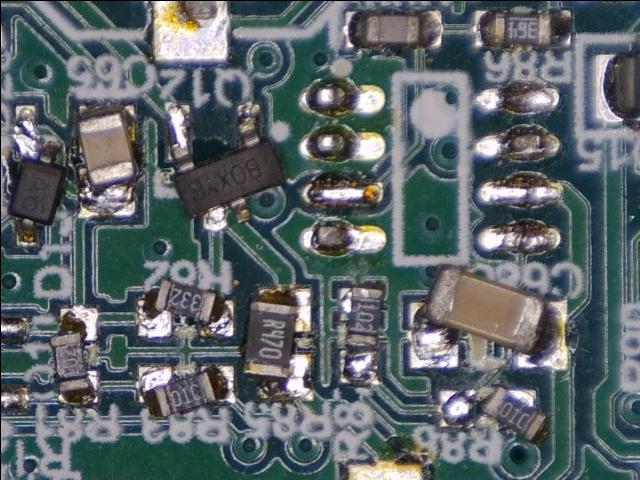Incorrect_installation: (408, 262, 571, 371), (163, 100, 287, 231), (7, 102, 67, 247), (242, 286, 314, 404), (77, 102, 141, 219), (438, 383, 549, 445), (137, 278, 235, 339), (136, 363, 236, 418), (49, 306, 100, 405), (337, 284, 385, 386)
